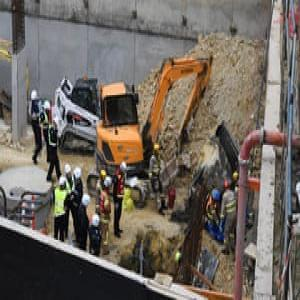blue: (212, 190, 220, 205)
red: (224, 179, 230, 191)
white: (91, 213, 100, 229), (105, 176, 113, 193), (82, 195, 91, 210), (60, 176, 68, 191), (66, 165, 73, 180), (75, 170, 82, 185), (120, 163, 128, 176), (31, 91, 39, 104), (44, 101, 51, 114)
yellow: (101, 169, 107, 183), (233, 173, 240, 184), (154, 144, 160, 156)
